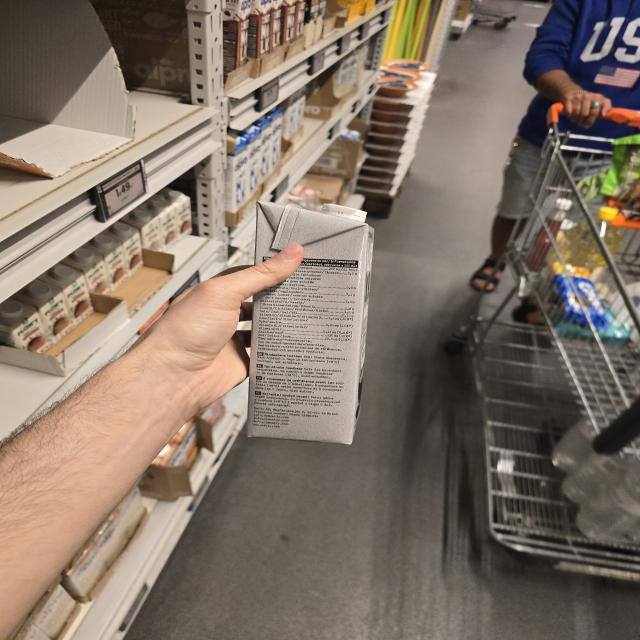Milk: (246, 199, 374, 443)
